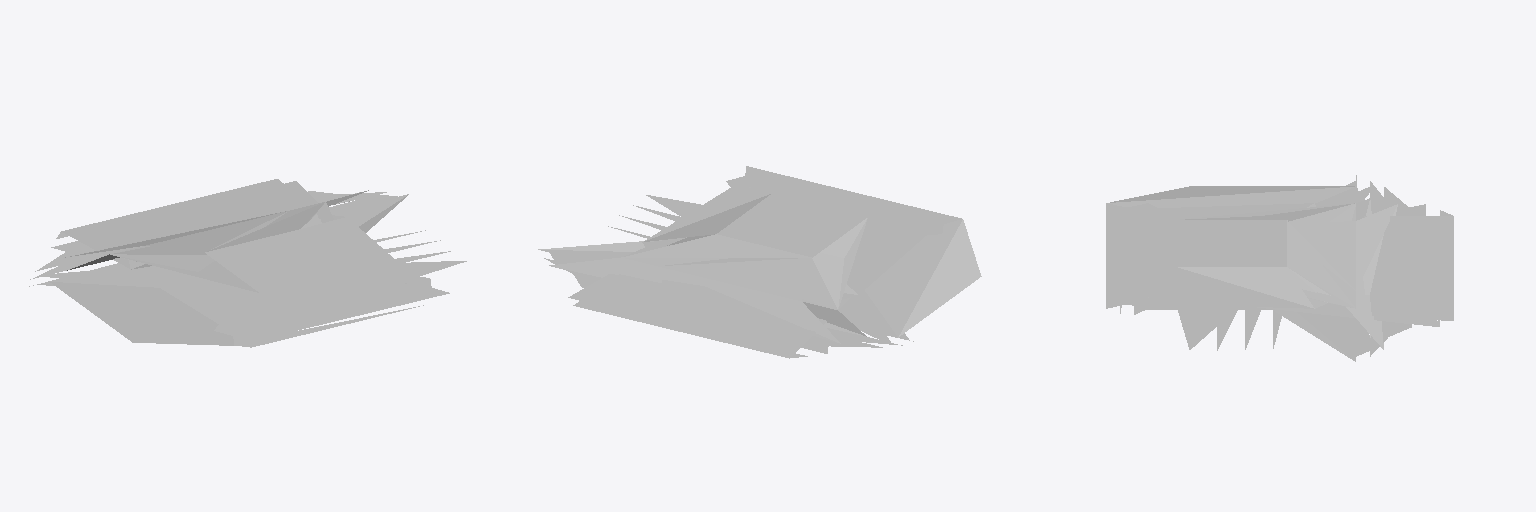
File: enemy_Randomy.obj
The picture shows the model from 3 angles: view 1: azimuth 30°, elevation 25°; view 2: azimuth 150°, elevation 25°; view 3: azimuth 270°, elevation 25°; orthographic projection.
Bounding box in the file's own units: 32 × 2 × 25.